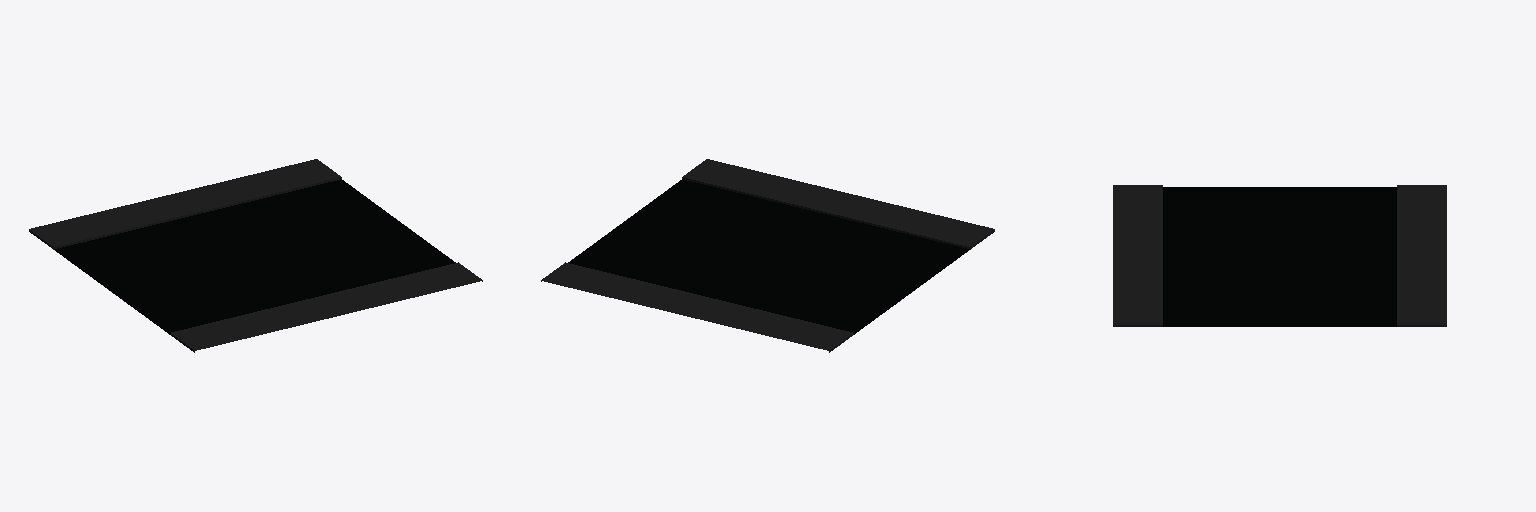
Rendered from 06_septm.obj.
The picture shows the model from 3 angles: view 1: azimuth 30°, elevation 25°; view 2: azimuth 150°, elevation 25°; view 3: azimuth 270°, elevation 25°; orthographic projection.
Visible parts, largest first — view 1: 06_septm_Plane.008; view 2: 06_septm_Plane.008; view 3: 06_septm_Plane.008.
Boxes of the visible parts, x1=… form: 06_septm_Plane.008: x1=29, y1=159, x2=482, y2=352; 06_septm_Plane.008: x1=541, y1=159, x2=994, y2=352; 06_septm_Plane.008: x1=1113, y1=185, x2=1446, y2=326.
Bounding box in the file's own units: 4.48 × 0.032 × 4.48.